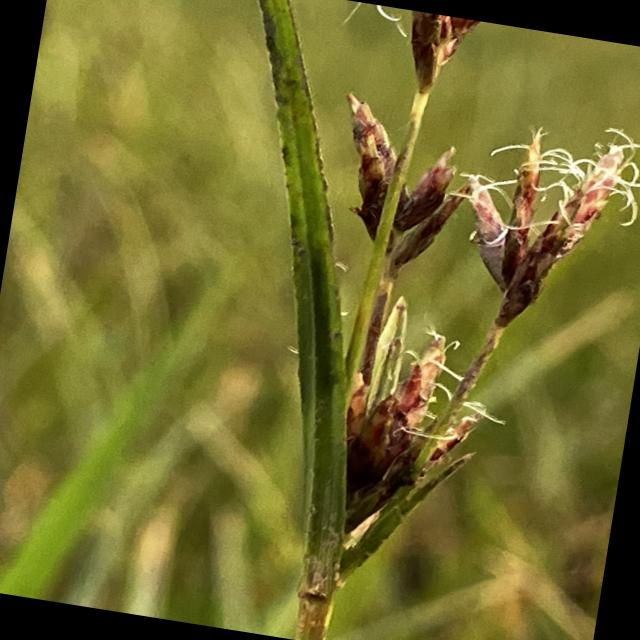cyperus: (225, 0, 640, 631)
